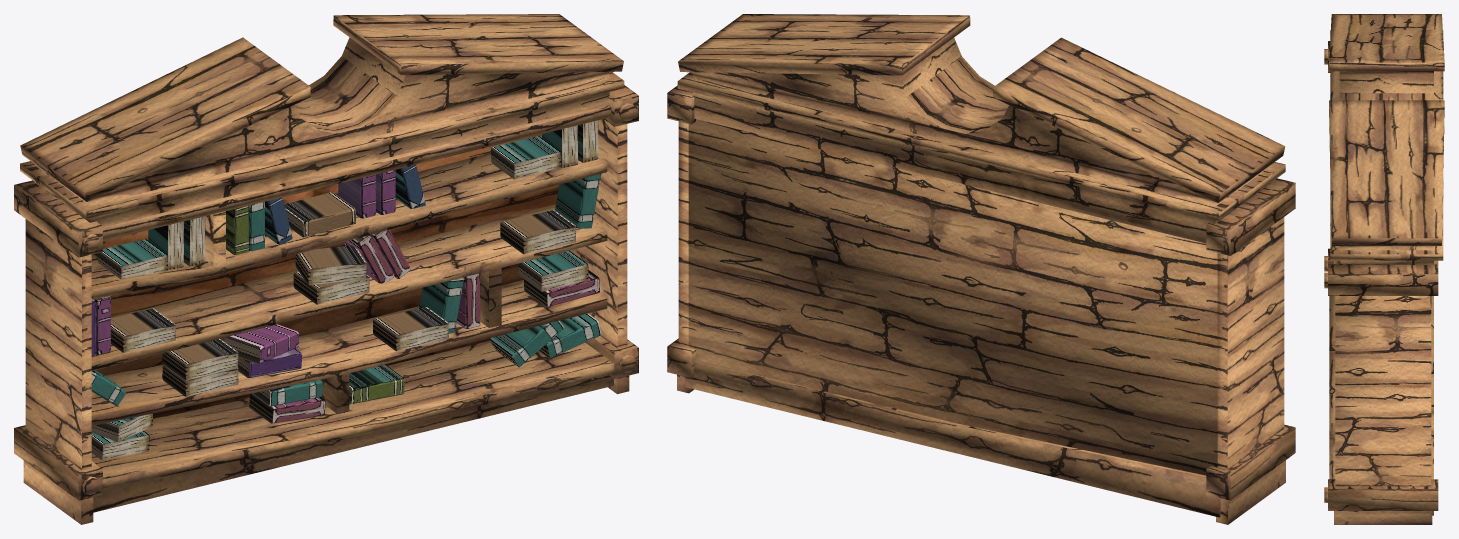
The model's file is bookshelf.glb.
The picture shows the model from 3 angles, left to right: view 1: azimuth 30°, elevation 25°; view 2: azimuth 150°, elevation 25°; view 3: azimuth 270°, elevation 25°; orthographic projection. The views are drawn at different scales.
Visible parts, largest first — view 1: Bookshelf; view 2: Bookshelf; view 3: Bookshelf.
Boxes of the visible parts, <box> form: Bookshelf: <box>14,14,638,524</box>; Bookshelf: <box>667,14,1295,524</box>; Bookshelf: <box>1324,14,1444,524</box>.
Bounding box in the file's own units: 2.38 × 1.56 × 0.5176.
3 materials, 3 textured.
